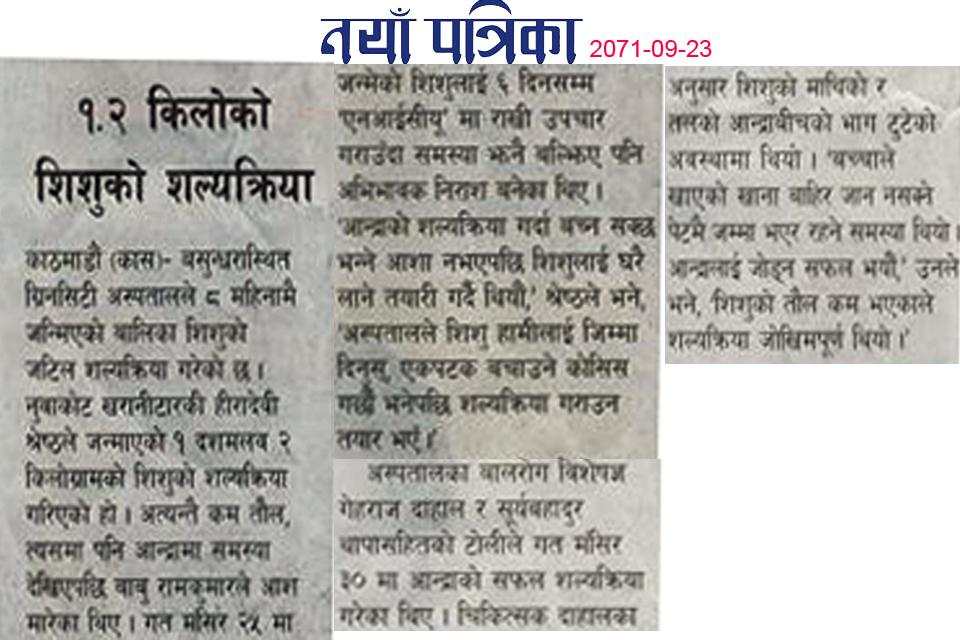news_paper: (1, 53, 960, 640)
